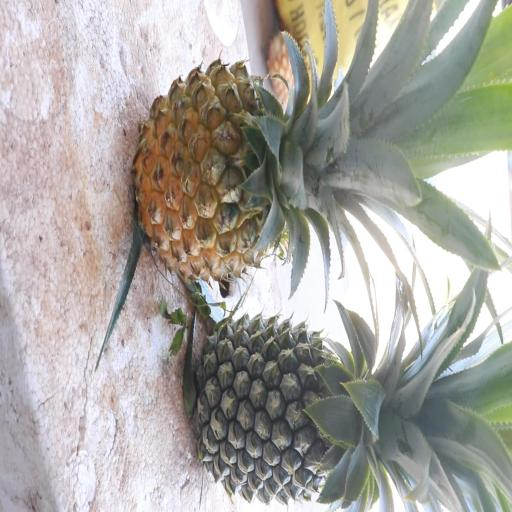Pineapple - v8 v1: (136, 34, 454, 300)
